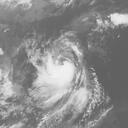cyclone: (32, 38, 92, 106)
